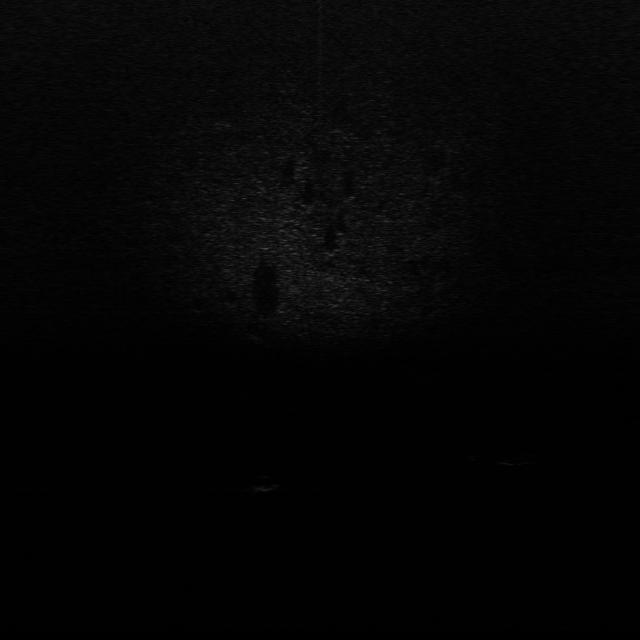ball: (250, 474, 280, 493)
human body: (470, 448, 564, 470)
